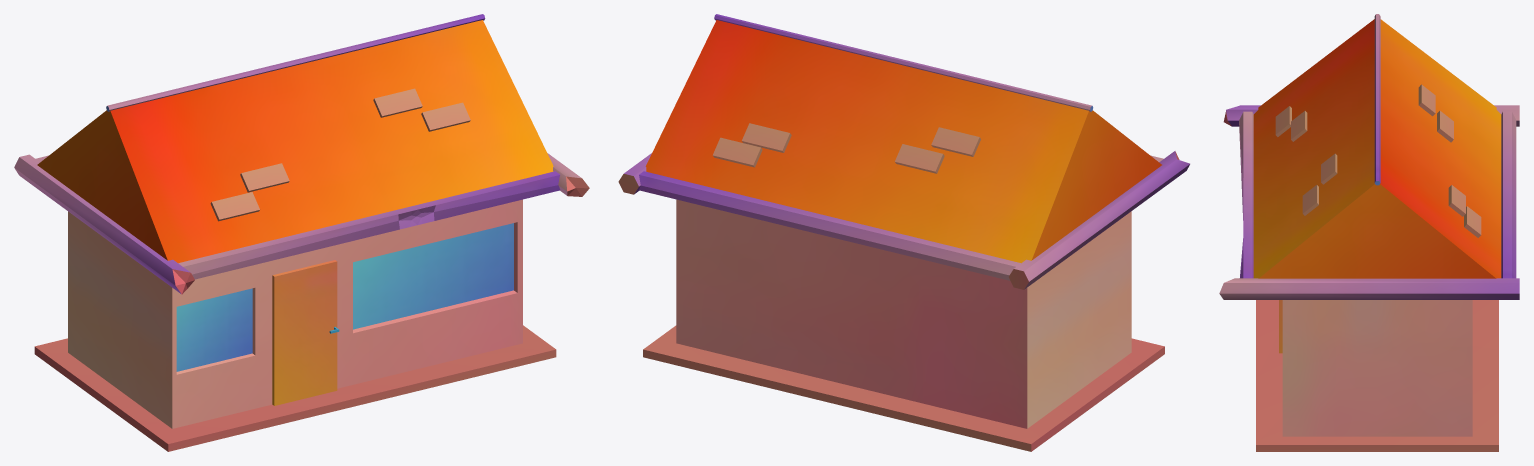
Rendered from House_3.fbx.
3 views of the same model, side by side, from view 1: azimuth 30°, elevation 25°; view 2: azimuth 150°, elevation 25°; view 3: azimuth 270°, elevation 25° (orthographic). The views are drawn at different scales.
Parts seen in each view (by area): view 1: House_3; view 2: House_3; view 3: House_3.
Part boxes in pixels (x1=…): House_3: x1=14, y1=14, x2=589, y2=451; House_3: x1=618, y1=14, x2=1189, y2=451; House_3: x1=1219, y1=14, x2=1519, y2=451.
Size of the model in its own units: 720 by 495 by 501.
Materials: 1 (1 with a texture image).
